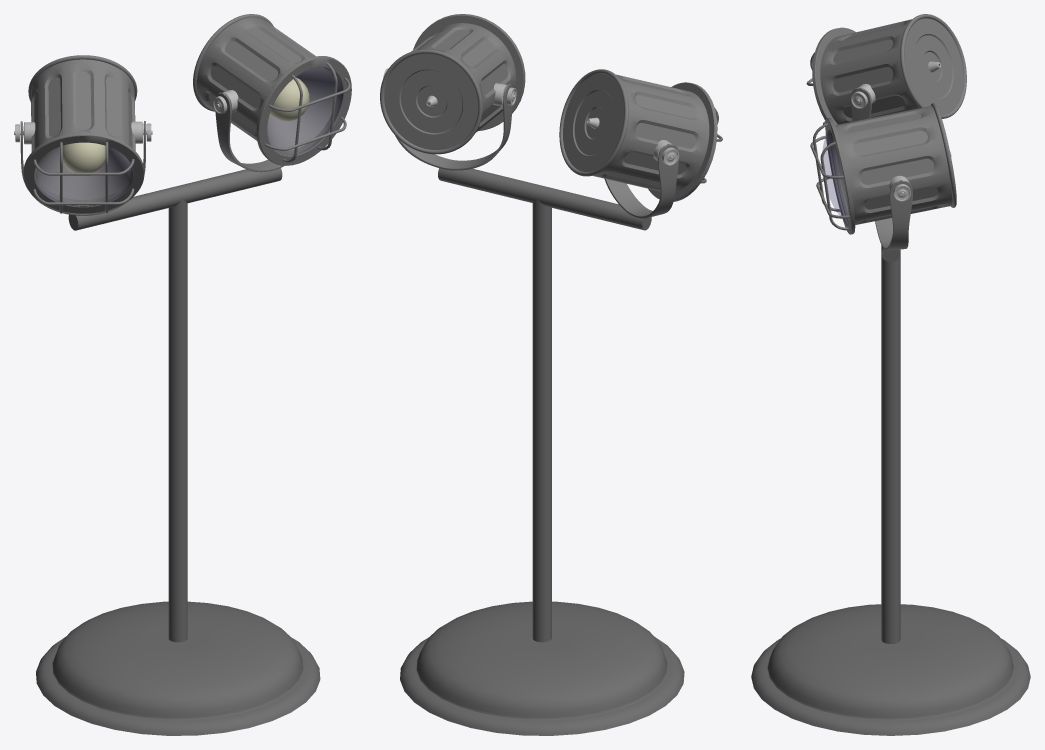
Rendered from spot_lamp.fbx.
The picture shows the model from 3 angles, left to right: view 1: azimuth 30°, elevation 25°; view 2: azimuth 150°, elevation 25°; view 3: azimuth 270°, elevation 25°; orthographic projection. The views are drawn at different scales.
Parts seen in each view (by area): view 1: Circle.021, Circle.004, Cylinder.003, Cylinder, Circle.005, Circle.007, Circle.002, Circle, Circle.009, Sphere.003, saddle, Sphere (+6 smaller); view 2: Circle.021, Circle.004, Plane, Cylinder.003, Plane.001, Cylinder, Circle.005, saddle.001, Circle.002, Circle.007, saddle; view 3: Circle.021, Cylinder, Circle.004, Cylinder.003, Plane.001, saddle, Circle.002, Circle.007, Circle.001, grill vert, Plane.
Part boxes in pixels (left/top/right/bottom): Circle.021: left=36, top=601, right=320, bottom=735; Circle.004: left=168, top=198, right=187, bottom=642; Cylinder.003: left=31, top=59, right=135, bottom=205; Cylinder: left=197, top=17, right=343, bottom=155; Circle.005: left=68, top=168, right=282, bottom=230; Circle.007: left=23, top=132, right=144, bottom=213; Circle.002: left=256, top=56, right=351, bottom=165; Circle: left=267, top=67, right=337, bottom=150; Circle.009: left=36, top=146, right=130, bottom=200; Sphere.003: left=62, top=142, right=105, bottom=172; saddle: left=215, top=92, right=284, bottom=172; Sphere: left=270, top=77, right=309, bottom=121; Circle.021: left=400, top=601, right=684, bottom=735; Circle.004: left=532, top=198, right=551, bottom=642; Plane: left=380, top=49, right=482, bottom=154; Cylinder.003: left=592, top=74, right=709, bottom=192; Plane.001: left=559, top=69, right=628, bottom=176; Cylinder: left=411, top=23, right=516, bottom=132; Circle.005: left=438, top=168, right=651, bottom=230; saddle.001: left=604, top=143, right=679, bottom=218; Circle.002: left=413, top=14, right=525, bottom=130; Circle.007: left=648, top=82, right=717, bottom=201; saddle: left=395, top=84, right=512, bottom=170; Circle.021: left=751, top=604, right=1030, bottom=735; Cylinder: left=830, top=106, right=952, bottom=224; Circle.004: left=881, top=254, right=900, bottom=643; Cylinder.003: left=820, top=19, right=919, bottom=124; Plane.001: left=900, top=14, right=966, bottom=118; saddle: left=875, top=180, right=912, bottom=250; Circle.002: left=825, top=117, right=855, bottom=234; Circle.007: left=812, top=27, right=855, bottom=125; Circle.001: left=823, top=130, right=848, bottom=222; grill vert: left=812, top=123, right=848, bottom=230; Plane: left=930, top=103, right=956, bottom=207.
Bounding box in the file's own units: 75.38 × 145 × 59.16.
